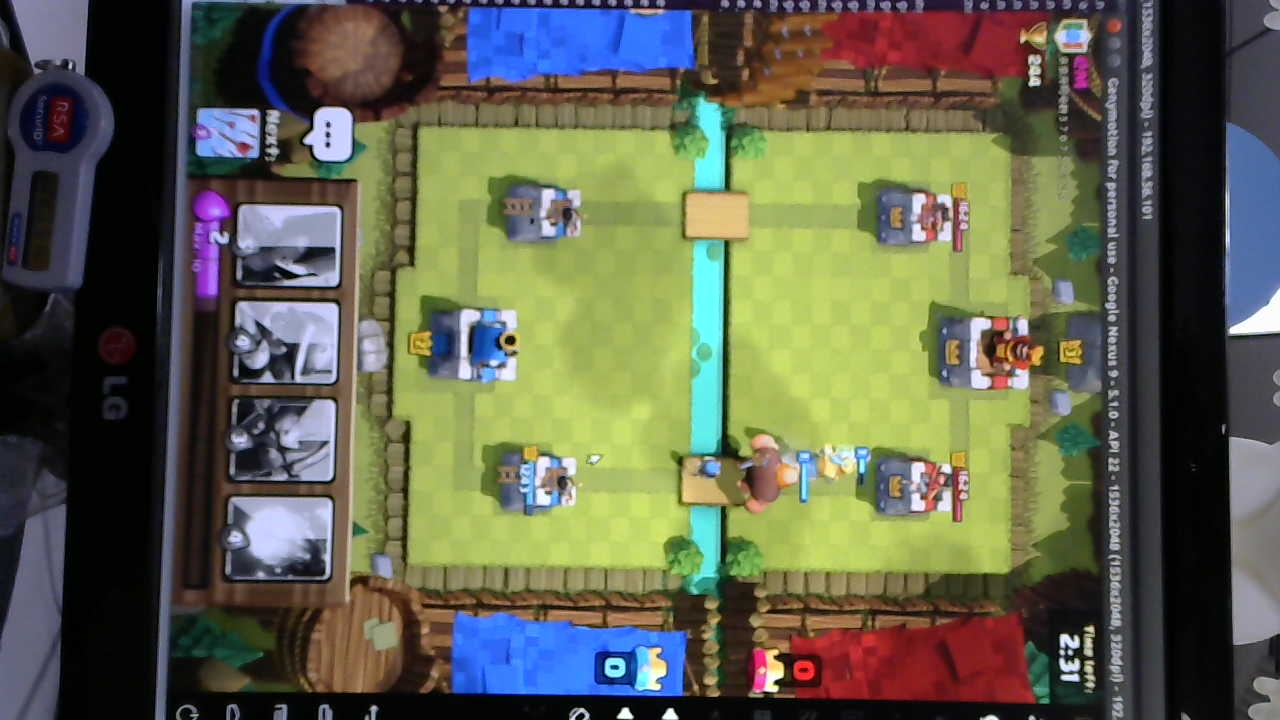arena: (504, 177, 587, 244), (505, 447, 582, 515)
bomb: (694, 453, 727, 481)
earena: (875, 453, 955, 523), (875, 187, 954, 247)
eking: (937, 312, 1039, 392)
giant: (737, 427, 801, 513)
king: (439, 303, 524, 384)
prince: (810, 439, 863, 485)
